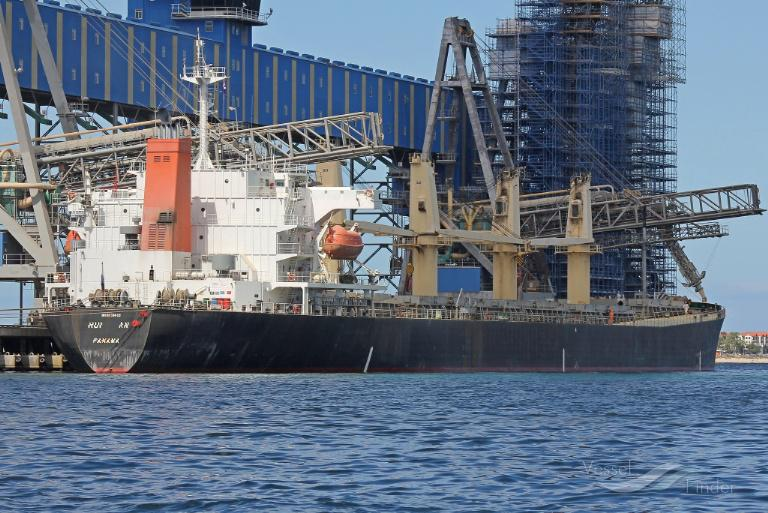OCR: (80, 306, 142, 351)
